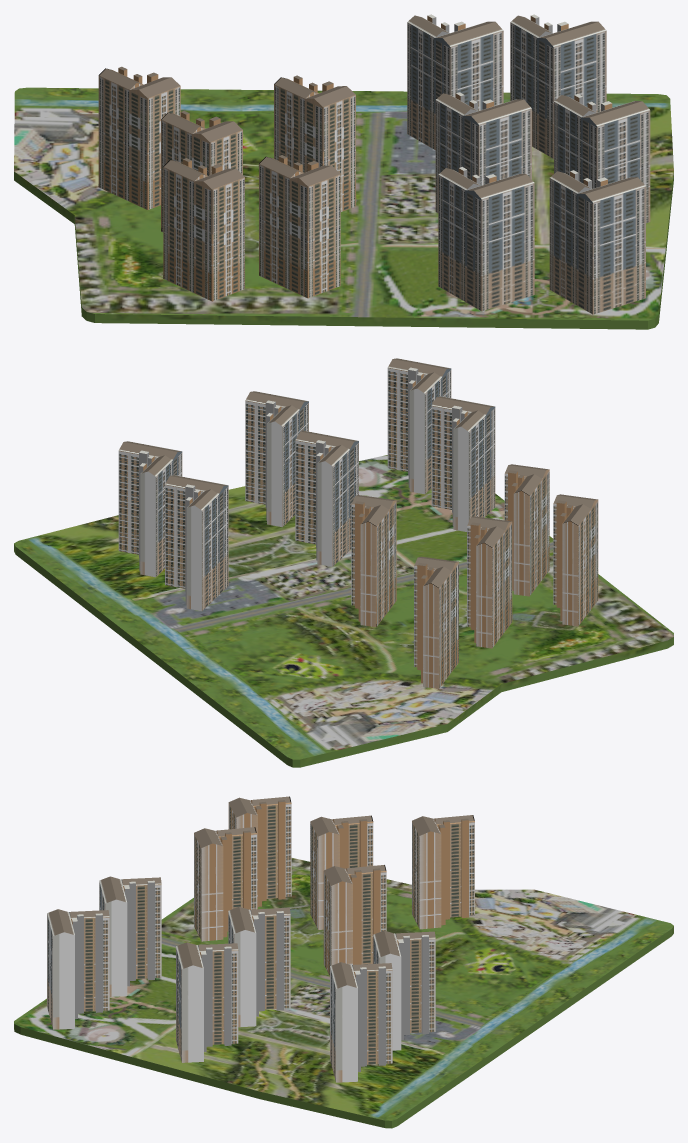
File: ICJ00105_B.glb
3 renders of one model, top to bottom at view 1: azimuth 30°, elevation 25°; view 2: azimuth 150°, elevation 25°; view 3: azimuth 270°, elevation 25°, orthographic. The views are drawn at different scales.
Visible parts, largest first — view 1: MainBuilding; view 2: MainBuilding; view 3: MainBuilding.
Part boxes in pixels (x1=…): MainBuilding: x1=14, y1=14, x2=673, y2=329; MainBuilding: x1=14, y1=358, x2=673, y2=767; MainBuilding: x1=14, y1=796, x2=673, y2=1128.
Size of the model in its own units: 3675 by 672 by 3827.
Materials: 1 (1 with a texture image).
